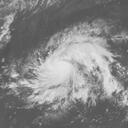cyclone: (20, 34, 115, 108)
